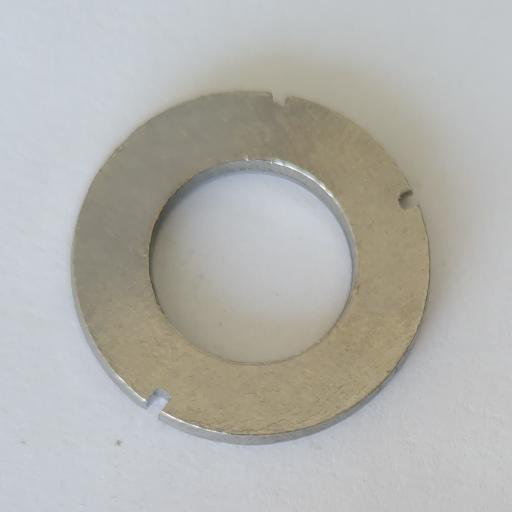burr: (144, 385, 173, 416), (398, 188, 420, 213), (268, 92, 290, 112)
